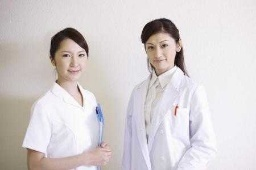noWear: (140, 32, 182, 70), (49, 43, 87, 82)
